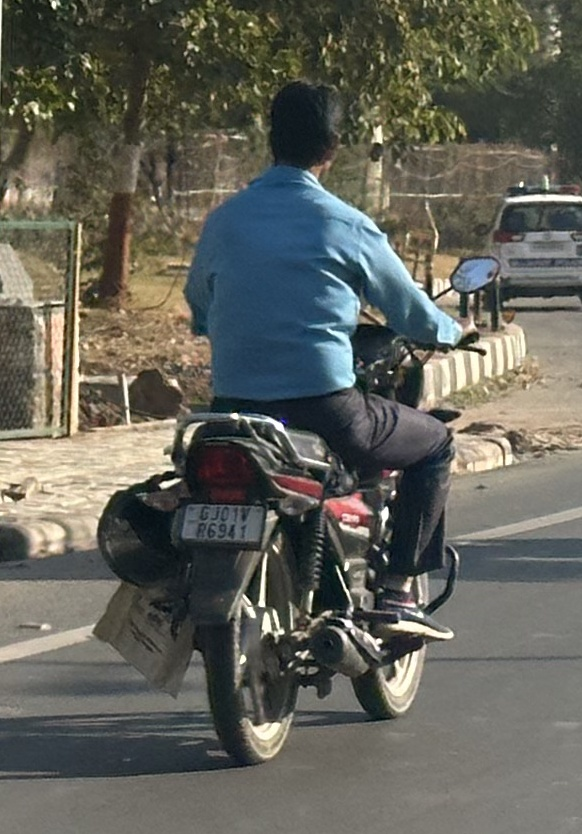BikeWithRider: (86, 68, 505, 773)
NoHelmet: (254, 73, 354, 186)
